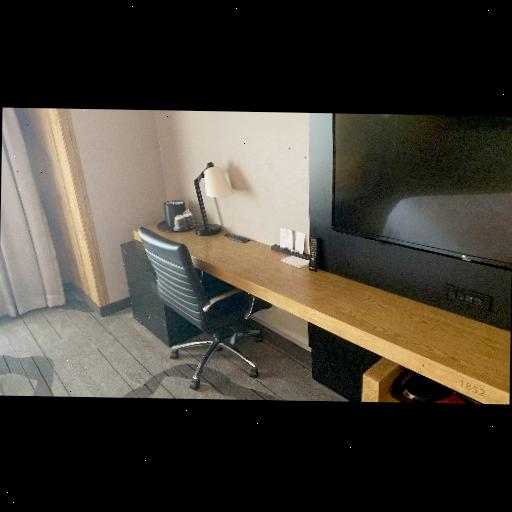chair: (140, 230, 266, 390)
organized table: (115, 207, 507, 407)
